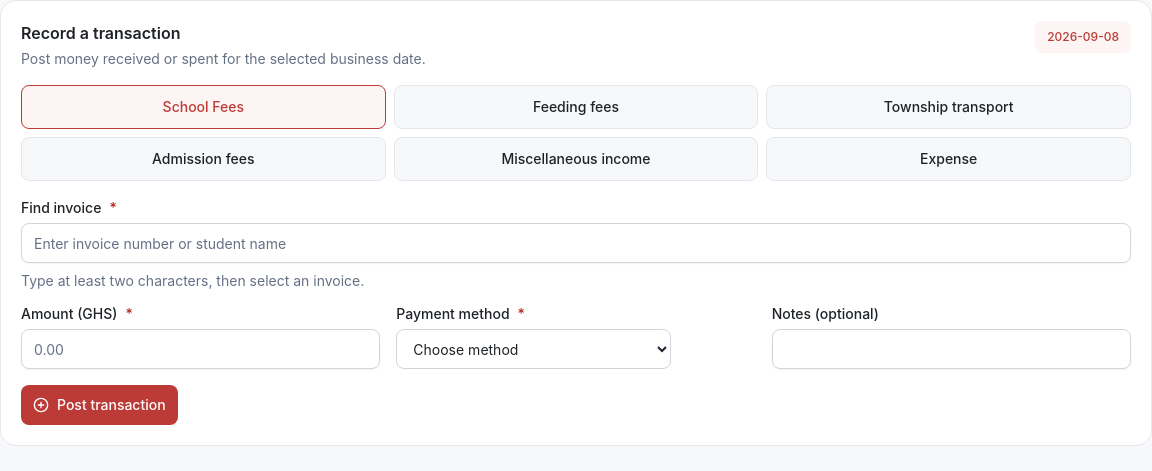
Test case: daily cashflow entry › announces no results without presenting success feedback
The width and height of the screenshot is (1152, 471).
In the dropdown labelled "Find invoice *": [576, 243] box [21, 223, 1131, 263], type "missing"
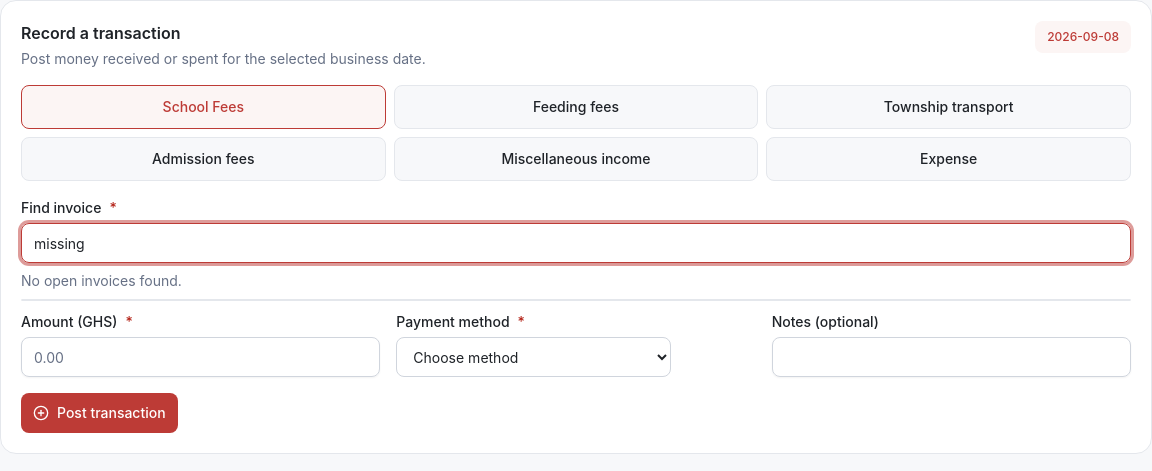
Check: the text "No open invoices found." is shown, box [21, 272, 182, 289]
